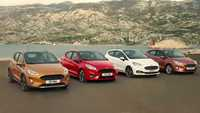car: (7, 49, 69, 89), (61, 48, 117, 81), (106, 48, 159, 75), (145, 47, 197, 74)
